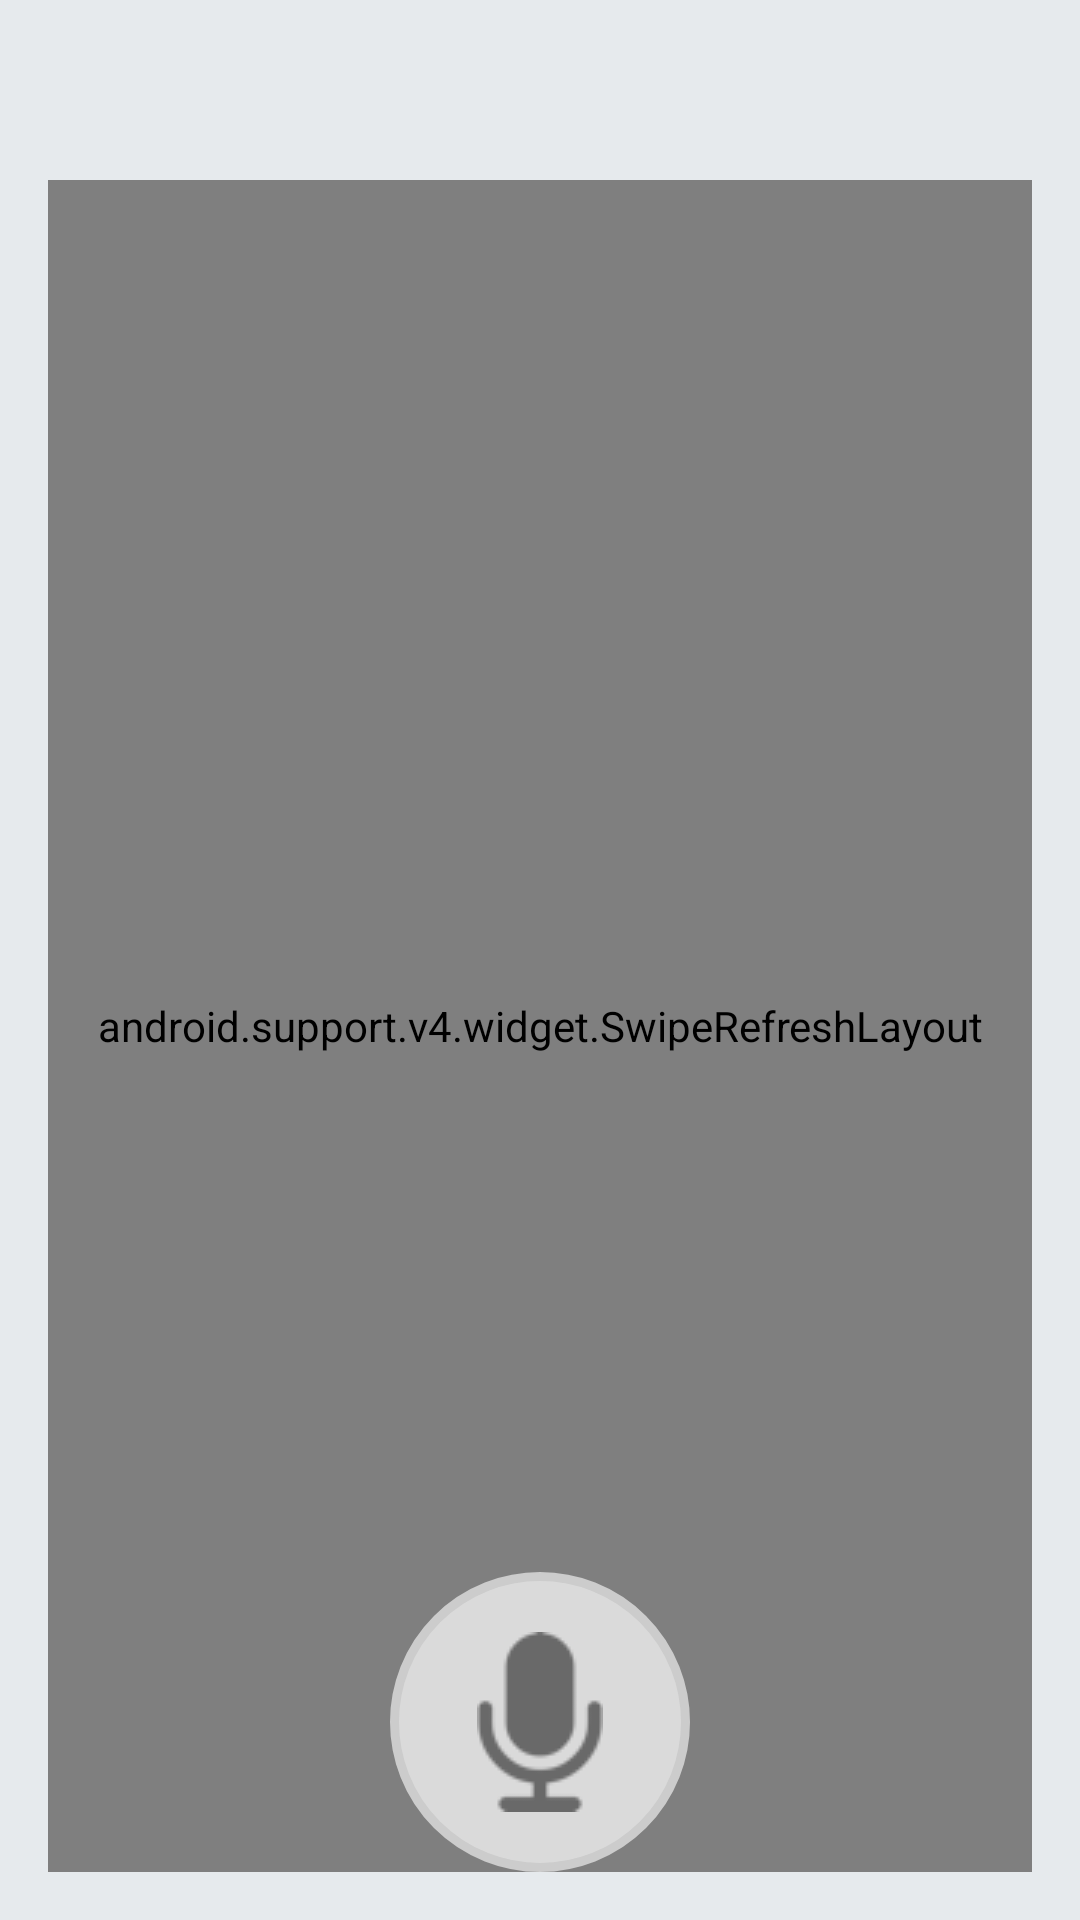

Locate icon controls on the screen. Image size 1080 x 1920, boxes as (x1, y1, x2, y2).
microphone shape: (390, 1572, 690, 1872)
